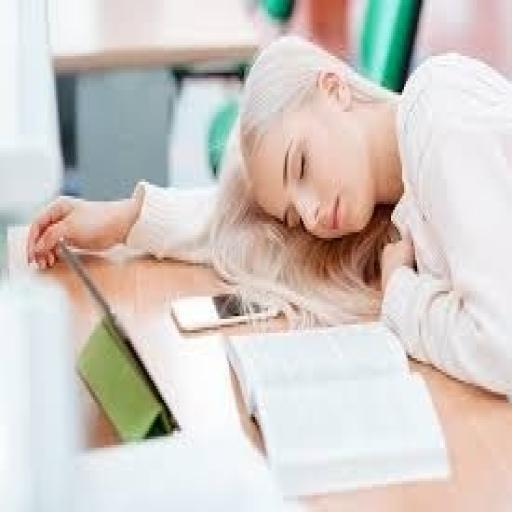sleeping: (22, 31, 510, 408)
